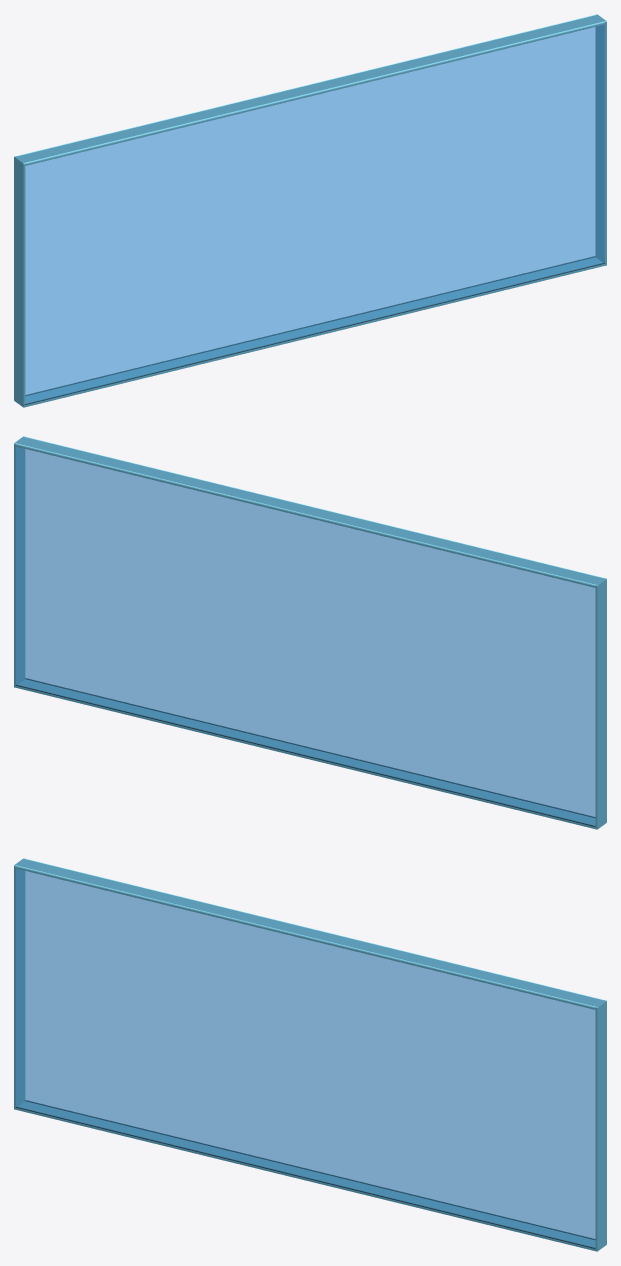
The model's file is SM_VR_Wall_RearRoomSideB.fbx.
3 renders of one model, top to bottom at view 1: azimuth 30°, elevation 25°; view 2: azimuth 150°, elevation 25°; view 3: azimuth 330°, elevation 25°, orthographic.
Parts seen in each view (by area): view 1: SM_VR_Wall_RearRoomSideB; view 2: SM_VR_Wall_RearRoomSideB; view 3: SM_VR_Wall_RearRoomSideB.
Boxes of the visible parts, x1,y1,x2,y2 form: SM_VR_Wall_RearRoomSideB: [14, 14, 606, 407]; SM_VR_Wall_RearRoomSideB: [14, 436, 606, 829]; SM_VR_Wall_RearRoomSideB: [14, 858, 606, 1251].
Size of the model in its own units: 700 by 20 by 280.
